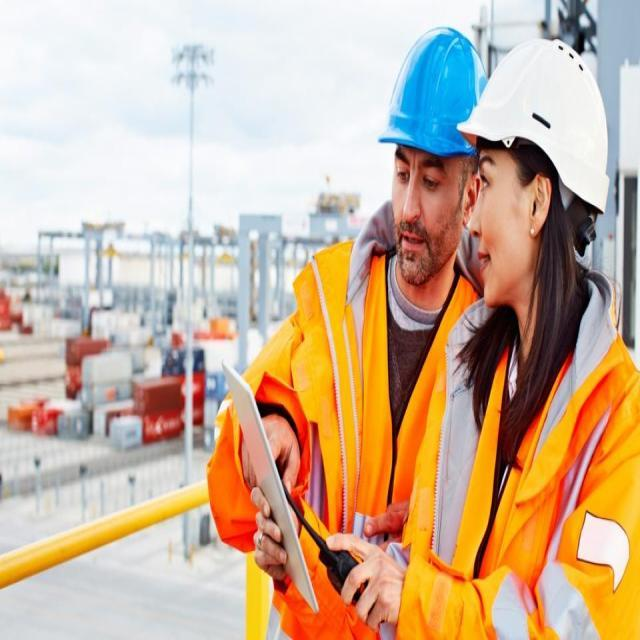reflective_jacket: (245, 245, 476, 632), (420, 308, 634, 637)
safety_helmet: (460, 33, 614, 213), (374, 20, 486, 162)
